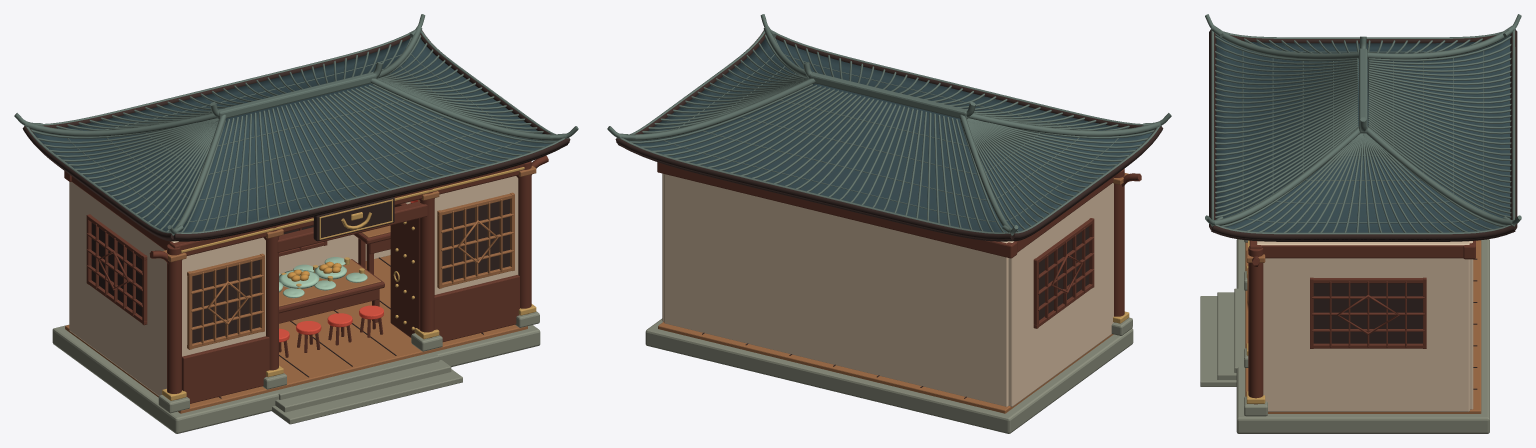
The model's file is banquet_house.glb.
3 views of the same model, side by side, from view 1: azimuth 30°, elevation 25°; view 2: azimuth 150°, elevation 25°; view 3: azimuth 270°, elevation 25° (orthographic).
Parts seen in each view (by area): view 1: banquet_house; view 2: banquet_house; view 3: banquet_house.
Part boxes in pixels (left/top/right/bottom): banquet_house: left=14, top=14, right=578, bottom=433; banquet_house: left=607, top=14, right=1171, bottom=433; banquet_house: left=1200, top=14, right=1521, bottom=433.
Bounding box in the file's own units: 9 × 5.5 × 6.
2 materials, 2 textured.
